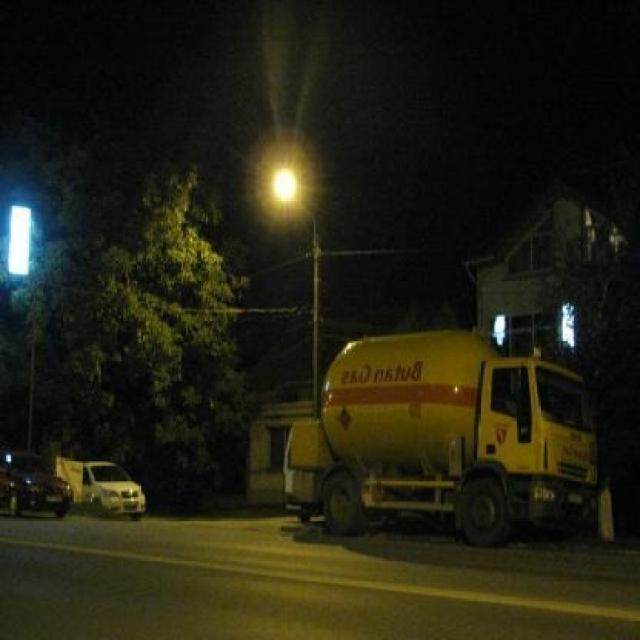Car: (64, 447, 149, 518), (0, 435, 63, 523)
Truck: (274, 285, 602, 542)
